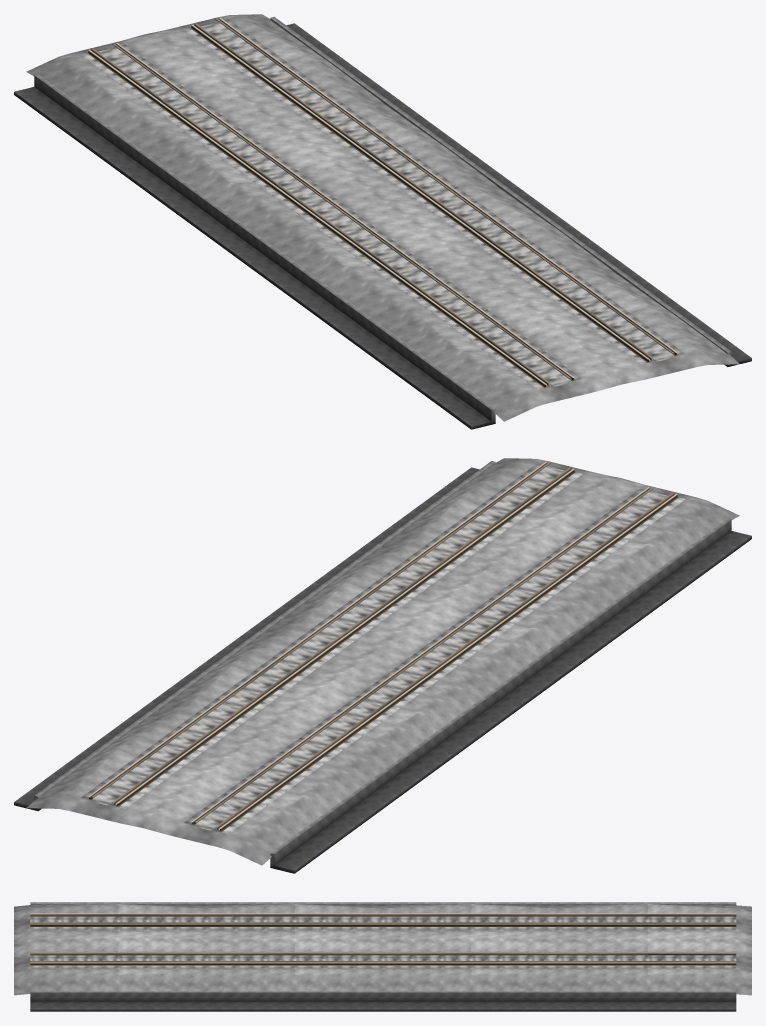
The model's file is NK_2RAIL_100.glb.
The picture shows the model from 3 angles, top to bottom: view 1: azimuth 30°, elevation 25°; view 2: azimuth 150°, elevation 25°; view 3: azimuth 270°, elevation 25°; orthographic projection. The views are drawn at different scales.
Parts seen in each view (by area): view 1: Jari_All, R000_RG_R, R000_RG_L; view 2: Jari_All, R000_RG_R, R000_RG_L; view 3: Jari_All, R000_RG_R, R000_RG_L.
Boxes of the visible parts, x1=… form: Jari_All: x1=14, y1=14, x2=751, y2=429; R000_RG_R: x1=91, y1=23, x2=652, y2=385; R000_RG_L: x1=112, y1=18, x2=673, y2=378; Jari_All: x1=14, y1=458, x2=751, y2=873; R000_RG_R: x1=112, y1=467, x2=674, y2=829; R000_RG_L: x1=91, y1=462, x2=653, y2=824; Jari_All: x1=14, y1=902, x2=751, y2=1011; R000_RG_R: x1=30, y1=914, x2=736, y2=954; R000_RG_L: x1=30, y1=922, x2=736, y2=962.
Bounding box in the file's own units: 35.42 × 3.35 × 105.
Materials: 7 (6 with a texture image).
